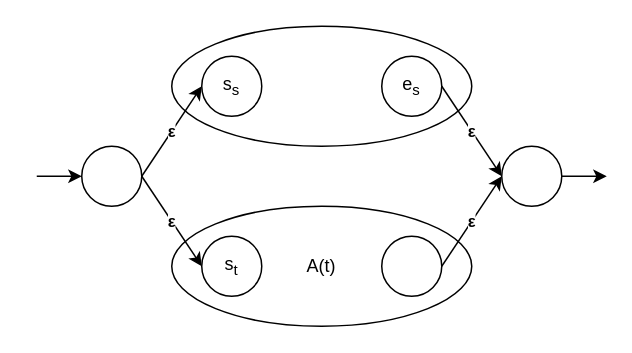
This 632x353 diagram has some shape labels left out. The shapes that lost their labels are listed below. From the top down, each one's box as (x1, y1, x2, y2) in pixels, then its label:
(170, 25, 472, 146): A(s)
(380, 235, 442, 296): e t
